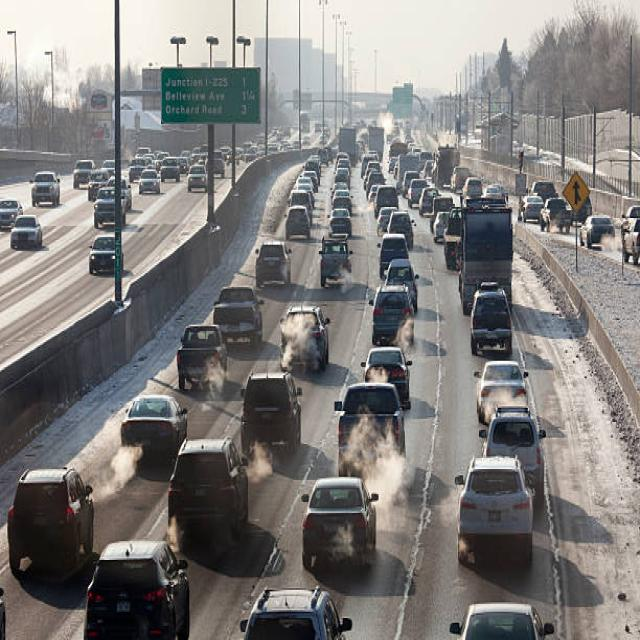16-Wheelers: (454, 184, 520, 296)
Car: (83, 538, 189, 638), (6, 466, 94, 583), (300, 475, 379, 571), (240, 585, 352, 639), (119, 394, 187, 458), (449, 601, 554, 638)
Traffic-sign: (159, 64, 260, 124)
